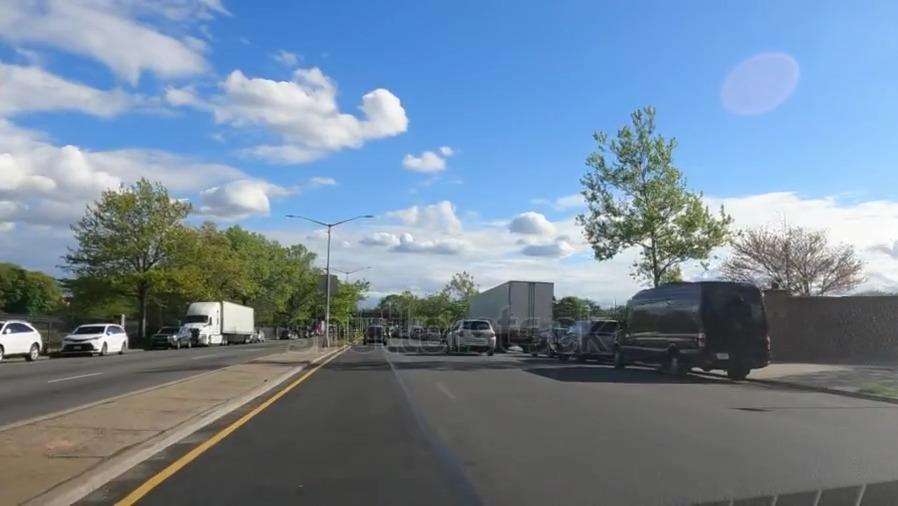car: (64, 321, 130, 359), (559, 320, 616, 362), (439, 319, 496, 355), (1, 319, 42, 363), (149, 324, 193, 353), (530, 326, 561, 352), (361, 324, 388, 346), (255, 329, 265, 342)
truck: (466, 281, 554, 346), (183, 298, 254, 351)
van: (607, 284, 775, 382)
